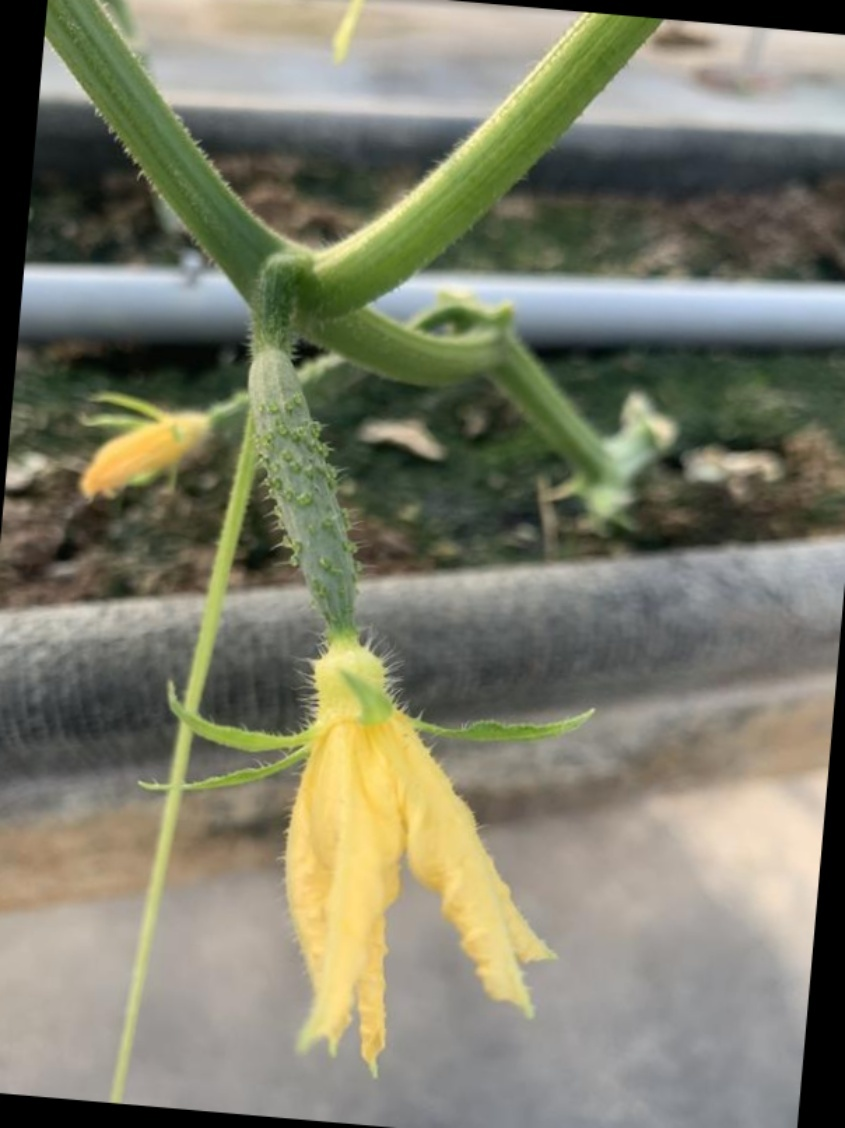bear: (178, 324, 598, 1035)
